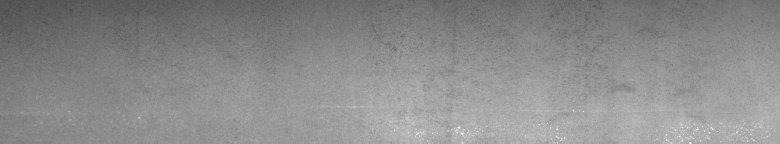ib: (581, 5, 752, 136)
